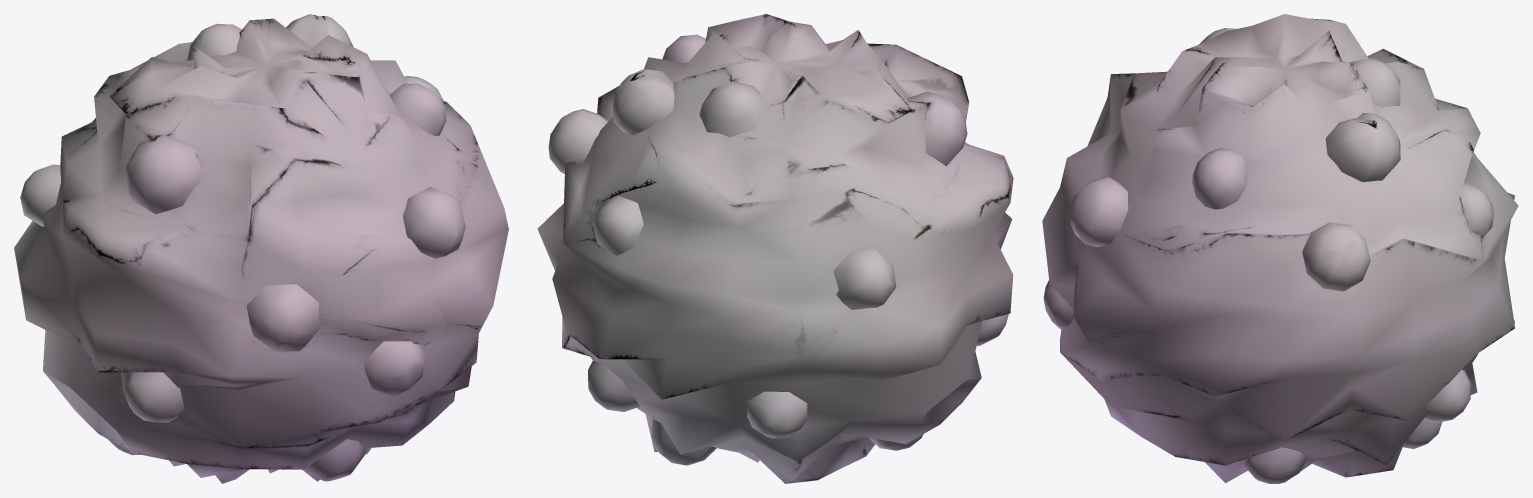
File: ball_good.glb
3 views of the same model, side by side, from view 1: azimuth 30°, elevation 25°; view 2: azimuth 150°, elevation 25°; view 3: azimuth 270°, elevation 25° (orthographic).
Parts seen in each view (by area): view 1: tripo_node_6bea7783-00bb-48db-97e6-e70cd27de493; view 2: tripo_node_6bea7783-00bb-48db-97e6-e70cd27de493; view 3: tripo_node_6bea7783-00bb-48db-97e6-e70cd27de493.
Part boxes in pixels (left/top/right/bottom): tripo_node_6bea7783-00bb-48db-97e6-e70cd27de493: left=14, top=14, right=508, bottom=483; tripo_node_6bea7783-00bb-48db-97e6-e70cd27de493: left=537, top=14, right=1013, bottom=483; tripo_node_6bea7783-00bb-48db-97e6-e70cd27de493: left=1042, top=14, right=1518, bottom=483.
Bounding box in the file's own units: 0.9829 × 0.9253 × 0.9829.
1 material, 1 textured.
